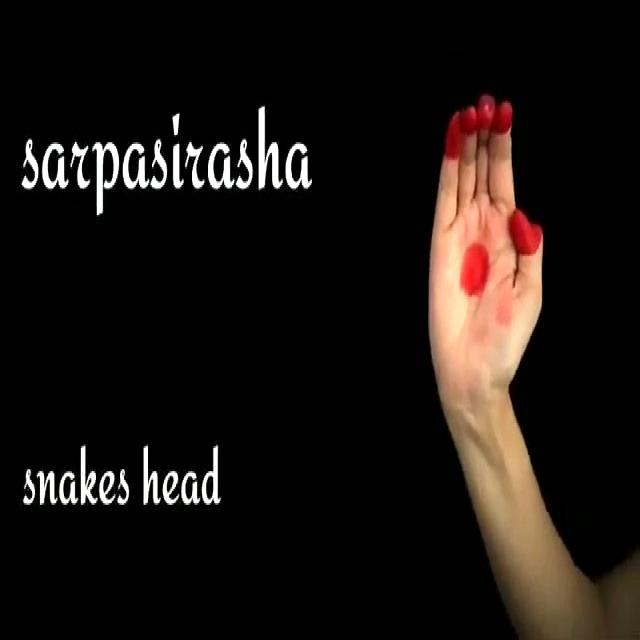Sarpashirsha: (407, 56, 568, 437)
text: (18, 106, 316, 212), (15, 438, 228, 520)
